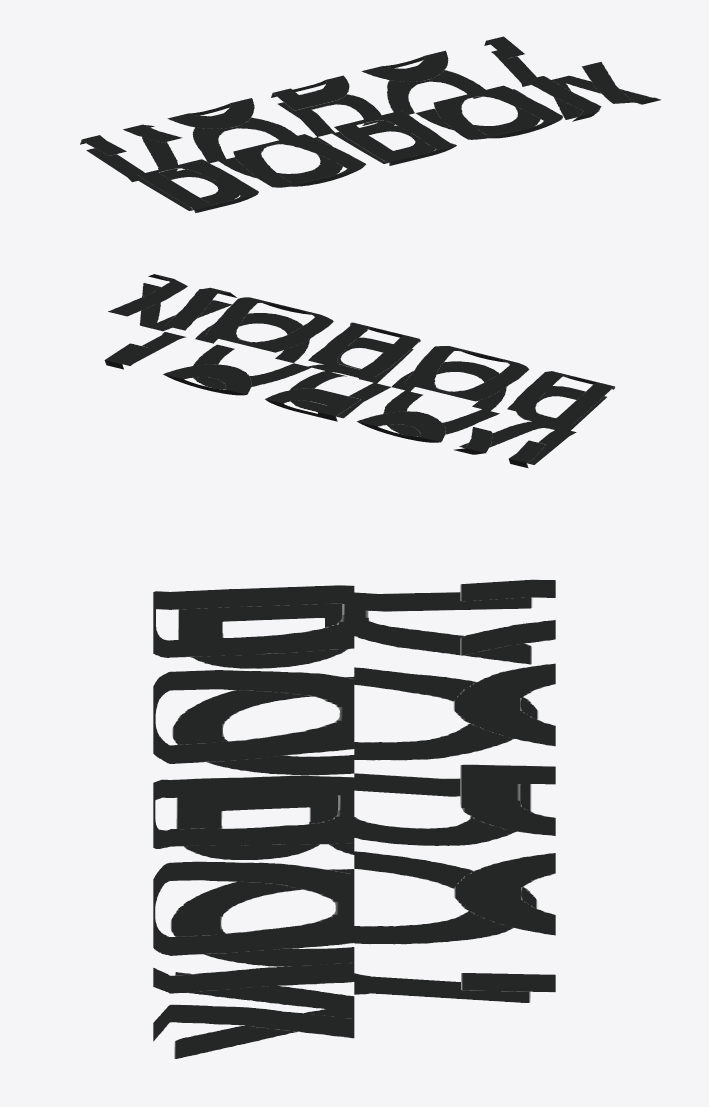
The model's file is table.dae.
The picture shows the model from 3 angles, top to bottom: view 1: azimuth 30°, elevation 25°; view 2: azimuth 150°, elevation 25°; view 3: azimuth 270°, elevation 25°; orthographic projection. The views are drawn at different scales.
Parts seen in each view (by area): view 1: Table; view 2: Table; view 3: Table.
Part boxes in pixels (x1,y1,x2,y2): Table: [80, 36, 660, 213]; Table: [104, 274, 615, 467]; Table: [153, 579, 555, 1058].
Bounding box in the file's own units: 0.5 × 0.15 × 0.005.
1 material, 1 textured.
